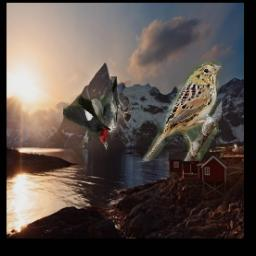Sparrow: (142, 62, 223, 162)
Woodpecker: (64, 76, 132, 150)
